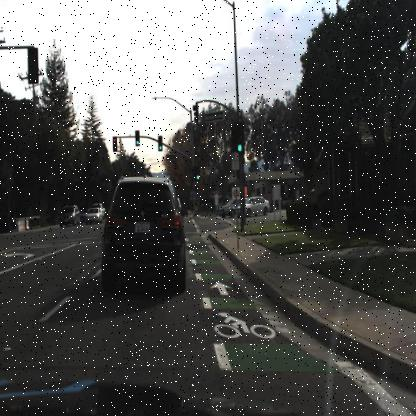car: (98, 167, 191, 303), (234, 194, 271, 217), (56, 201, 82, 233), (84, 204, 102, 227)
trafficLight: (111, 131, 119, 155)
trafficLight-Green: (232, 119, 247, 157), (135, 130, 140, 145), (157, 136, 162, 151), (196, 168, 200, 182)
